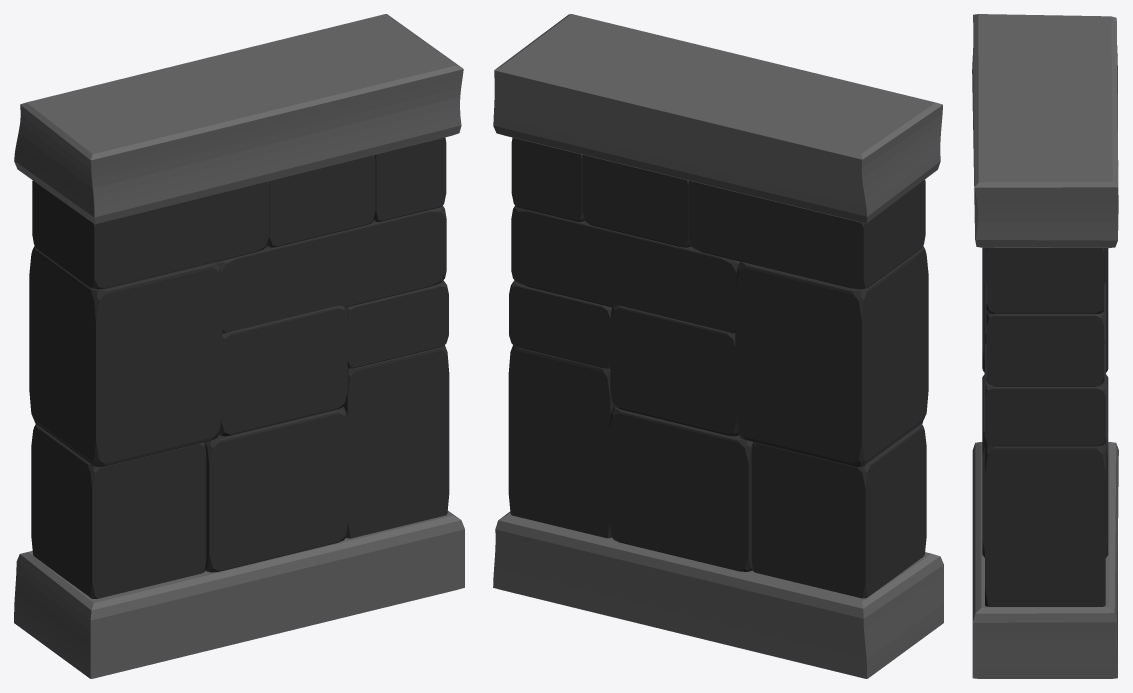
File: Wall_01_Middle.fbx
3 renders of one model, left to right at view 1: azimuth 30°, elevation 25°; view 2: azimuth 150°, elevation 25°; view 3: azimuth 270°, elevation 25°, orthographic. The views are drawn at different scales.
Visible parts, largest first — view 1: Wall_01_Middle; view 2: Wall_01_Middle; view 3: Wall_01_Middle.
Part boxes in pixels (x1=…): Wall_01_Middle: x1=14, y1=14, x2=464, y2=678; Wall_01_Middle: x1=493, y1=14, x2=943, y2=678; Wall_01_Middle: x1=972, y1=14, x2=1118, y2=678.
Bounding box in the file's own units: 302 × 404 × 108.
